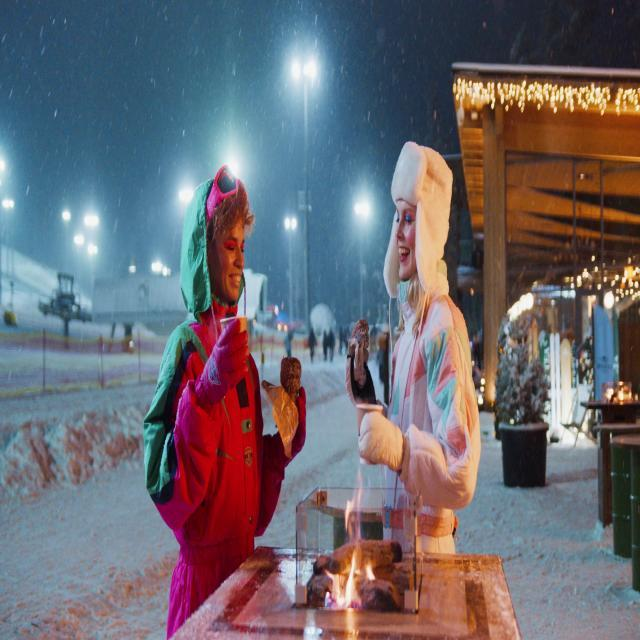Fire: (324, 486, 372, 628)
